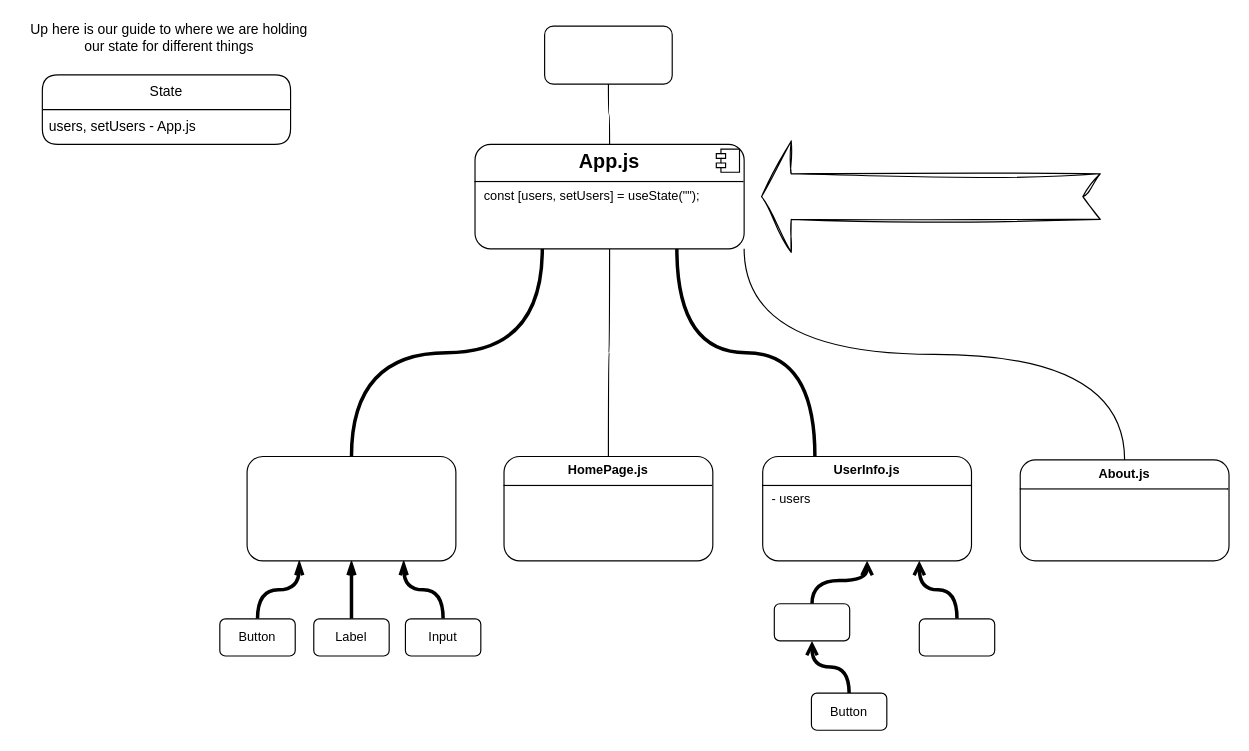
Some shapes in this 1249 by 751 pixel diagram are drawn without their labels. The centre of each missing label's shape, as x and y in pixels:
Avatar: (x=956, y=637)
Card: (x=811, y=622)
Global State for users, setUsers: (x=930, y=196)
Index.js: (x=607, y=54)
LoginPage.js - setUsers: (x=351, y=508)
